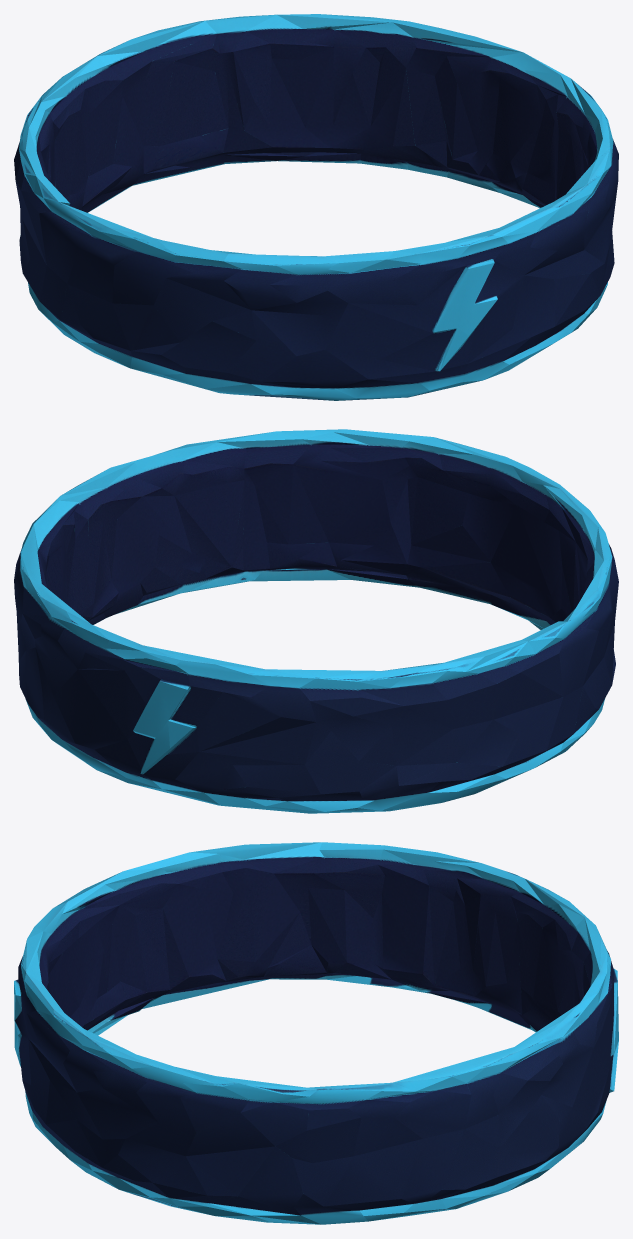
Rendered from source.glb.
3 views of the same model, one above another, from view 1: azimuth 30°, elevation 25°; view 2: azimuth 150°, elevation 25°; view 3: azimuth 270°, elevation 25° (orthographic).
Size of the model in its own units: 1.9 by 0.515 by 1.9.
1 material, 1 textured.
